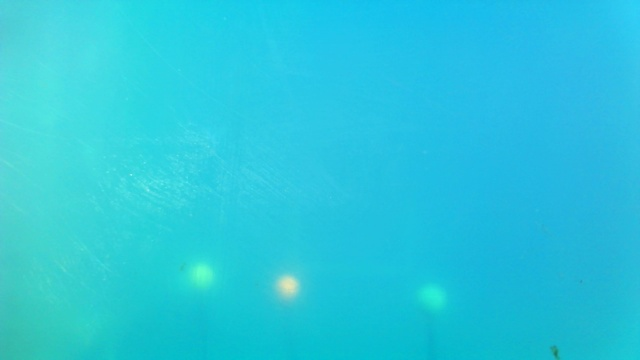buoy_red: (276, 274, 297, 293)
